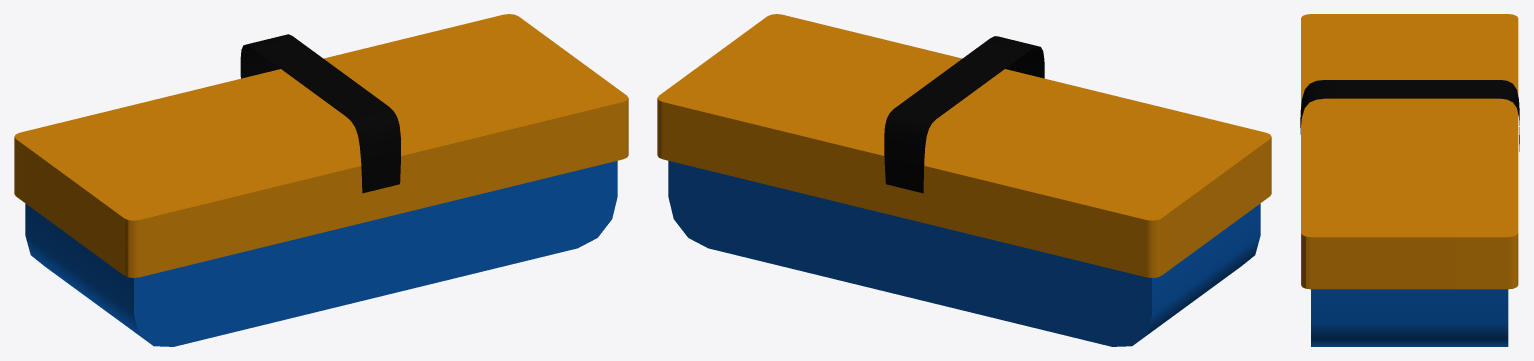
Rendered from kokubankeshi.fbx.
3 views of the same model, side by side, from view 1: azimuth 30°, elevation 25°; view 2: azimuth 150°, elevation 25°; view 3: azimuth 270°, elevation 25° (orthographic). The views are drawn at different scales.
Visible parts, largest first — view 1: pCube2; view 2: pCube2; view 3: pCube2.
Part boxes in pixels (x1,y1,x2,y2): pCube2: (14, 14, 628, 346); pCube2: (657, 14, 1271, 346); pCube2: (1300, 14, 1519, 346).
Bounding box in the file's own units: 3.93 × 1.35 × 1.63.
